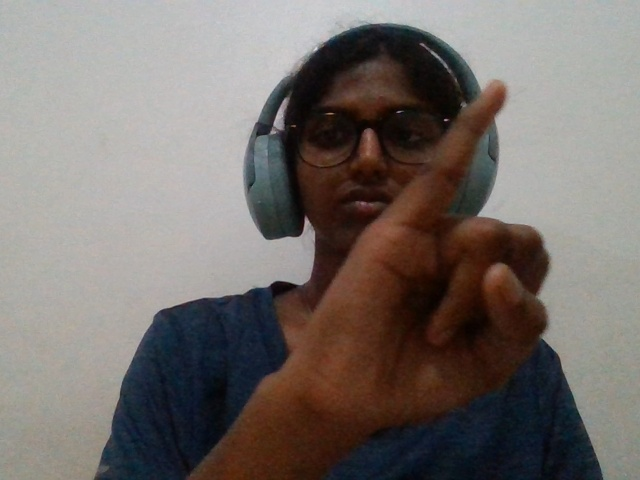I: (276, 68, 585, 452)
